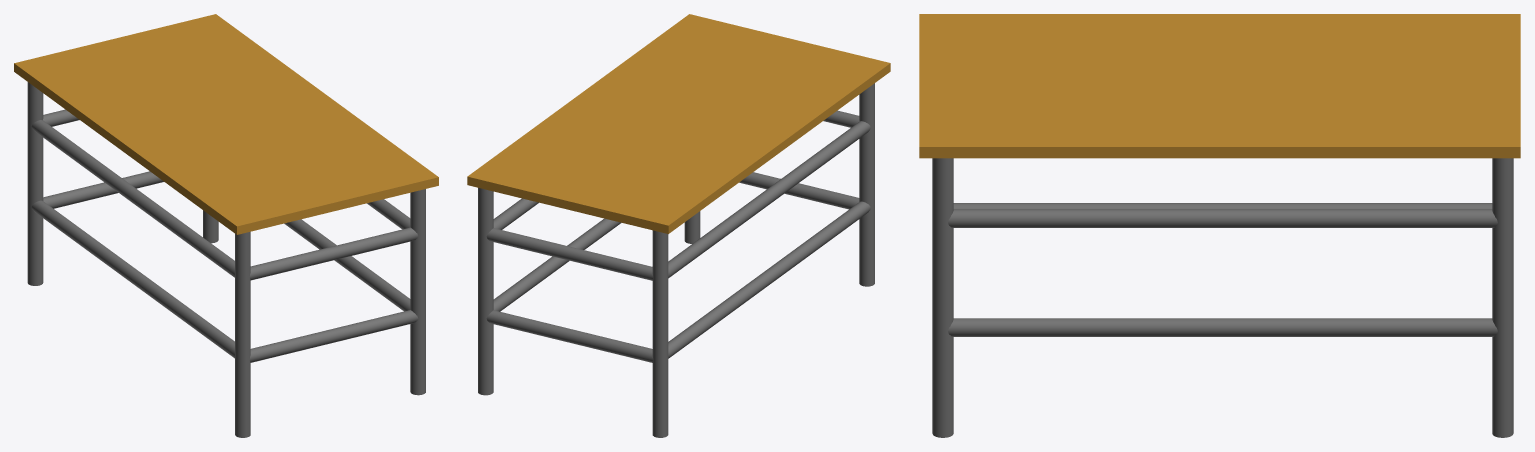
File: Bina_catsnda_masa.fbx
3 renders of one model, left to right at view 1: azimuth 30°, elevation 25°; view 2: azimuth 150°, elevation 25°; view 3: azimuth 270°, elevation 25°, orthographic. The views are drawn at different scales.
Parts seen in each view (by area): view 1: Plane.001, Cylinder.003; view 2: Plane.001, Cylinder.003; view 3: Plane.001, Cylinder.003.
Part boxes in pixels (x1,y1,x2,y2): Plane.001: (14,14,438,234); Cylinder.003: (27,82,425,437); Plane.001: (467,14,890,233); Cylinder.003: (478,83,874,437); Plane.001: (919,14,1520,158); Cylinder.003: (932,158,1513,437).
Size of the model in its own units: 105 by 108 by 200.
